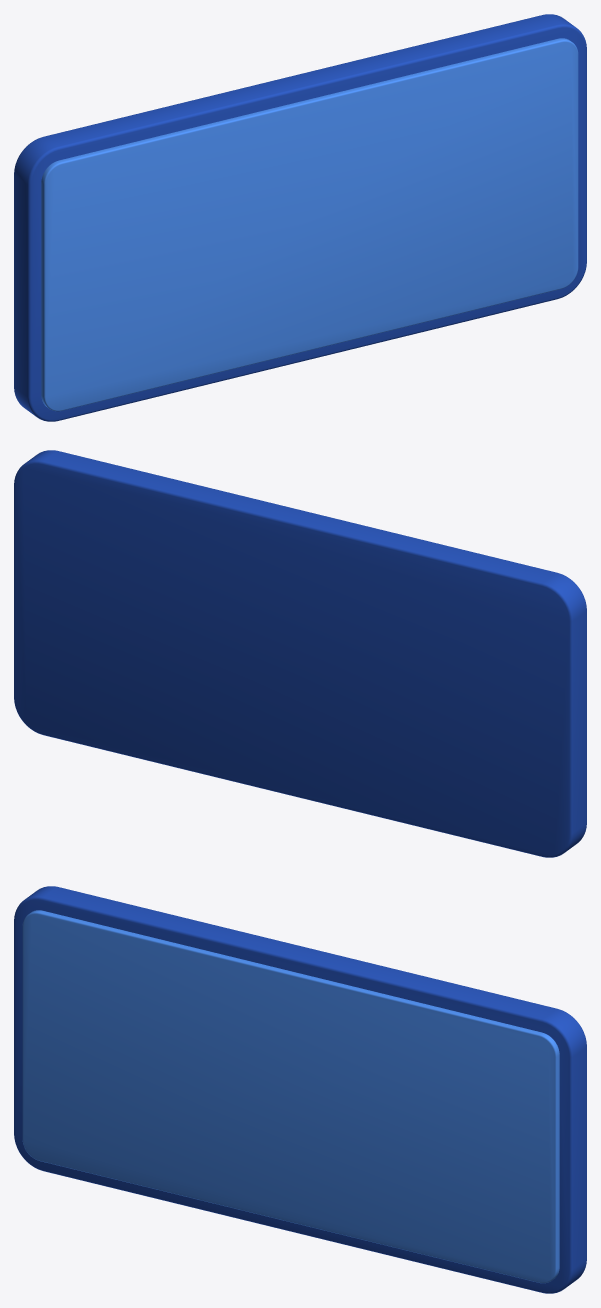
File: panel-mediano-azul.glb
3 views of the same model, one above another, from view 1: azimuth 30°, elevation 25°; view 2: azimuth 150°, elevation 25°; view 3: azimuth 330°, elevation 25° (orthographic).
Parts seen in each view (by area): view 1: placa, borde; view 2: borde; view 3: placa, borde.
Boxes of the visible parts, x1,y1,x2,y2 form: placa: (41, 38, 578, 411); borde: (14, 14, 586, 421); borde: (14, 450, 586, 857); placa: (22, 910, 559, 1283); borde: (14, 886, 586, 1293).
Bounding box in the file's own units: 3.2 × 1.5 × 0.192.
